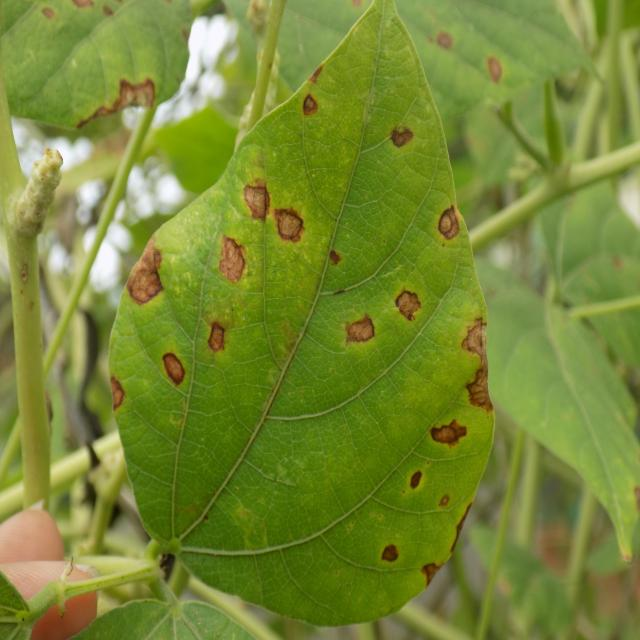Dolicos bean_cercospora leaf spot: (111, 0, 490, 628)
